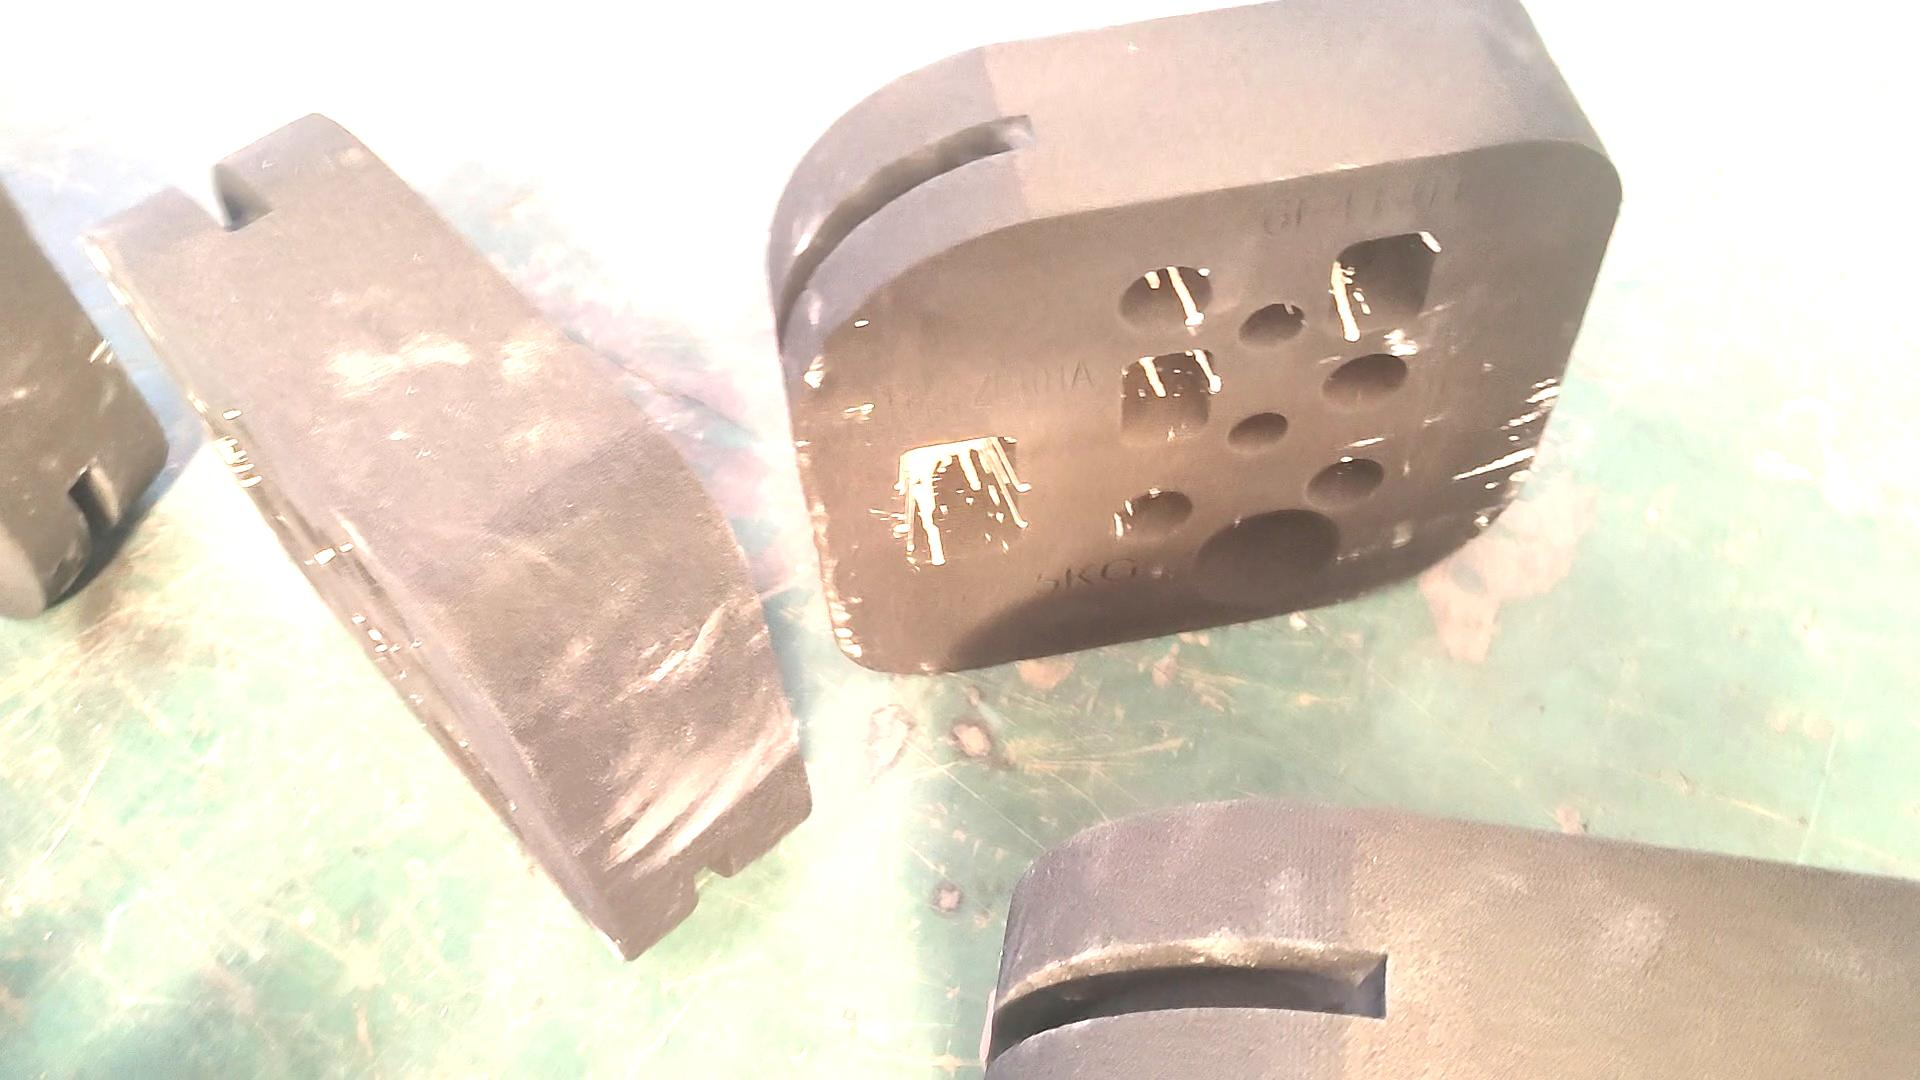pouring hole: (1193, 509, 1338, 603)
